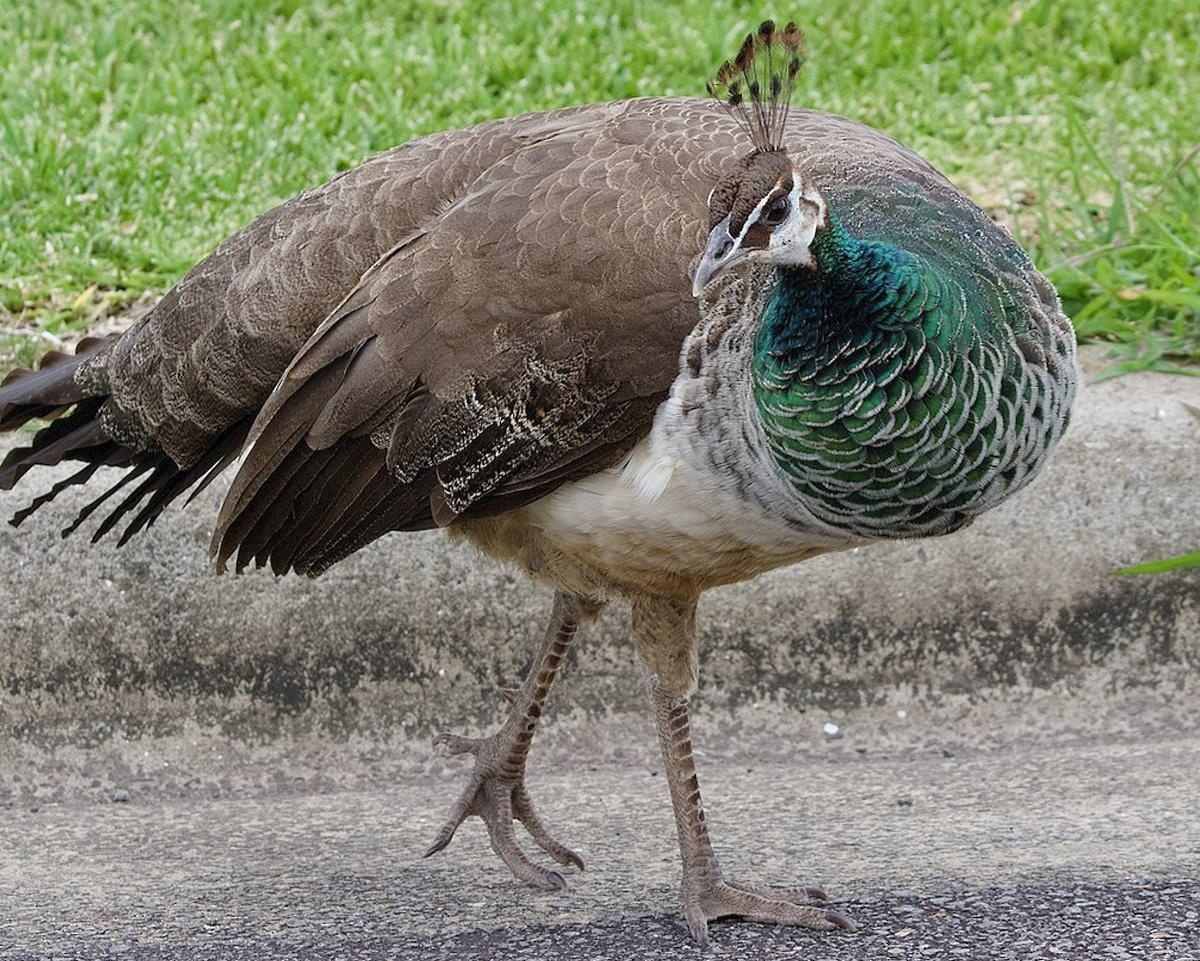peacock: (214, 98, 1060, 837)
